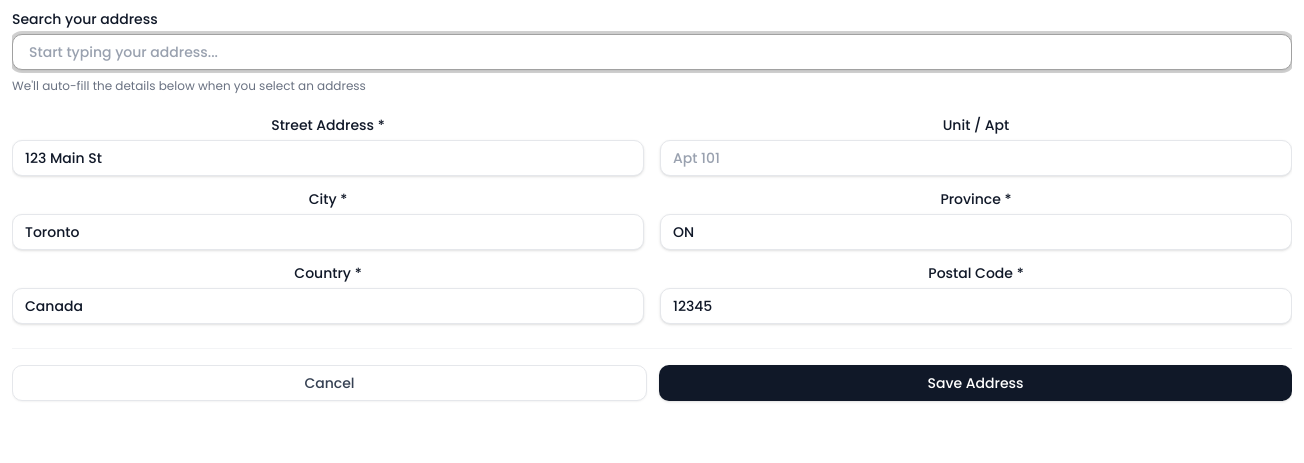
Test case: AddressForm › validates Canadian postal code
Click the button "Save Address". click: [976, 383]
box: [659, 365, 1292, 401]
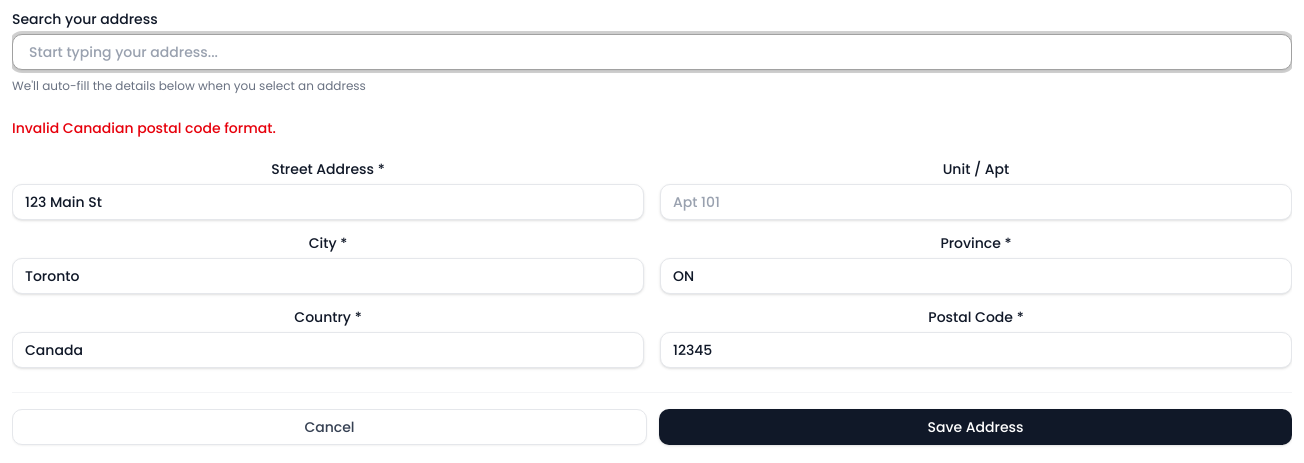
Expected: the text "Invalid Canadian postal code format." is shown, [12, 118, 276, 138]
